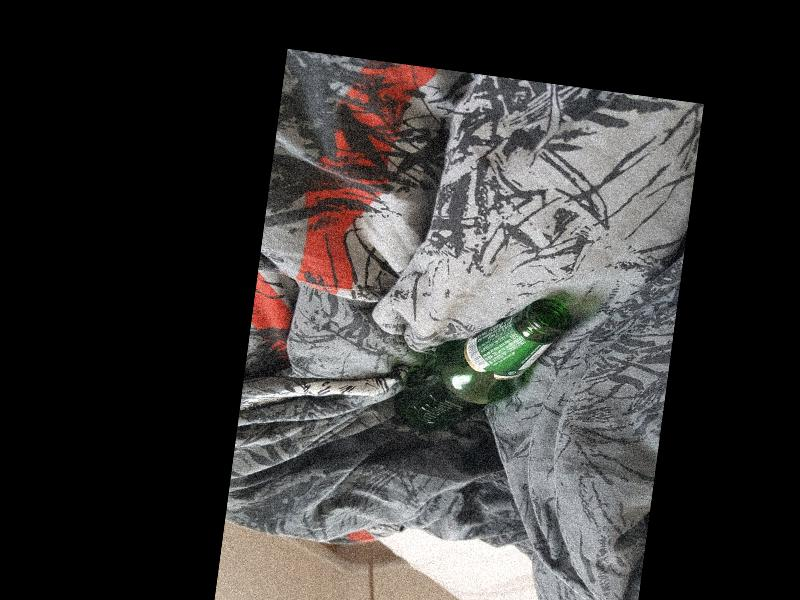Beer: (390, 280, 572, 447)
